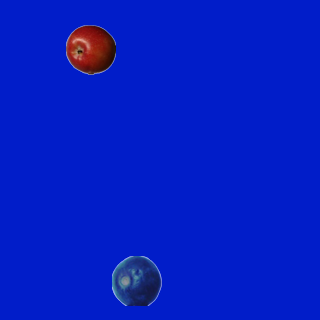Apple Braeburn: (65, 24, 115, 74)
Huckleberry: (111, 255, 161, 305)
